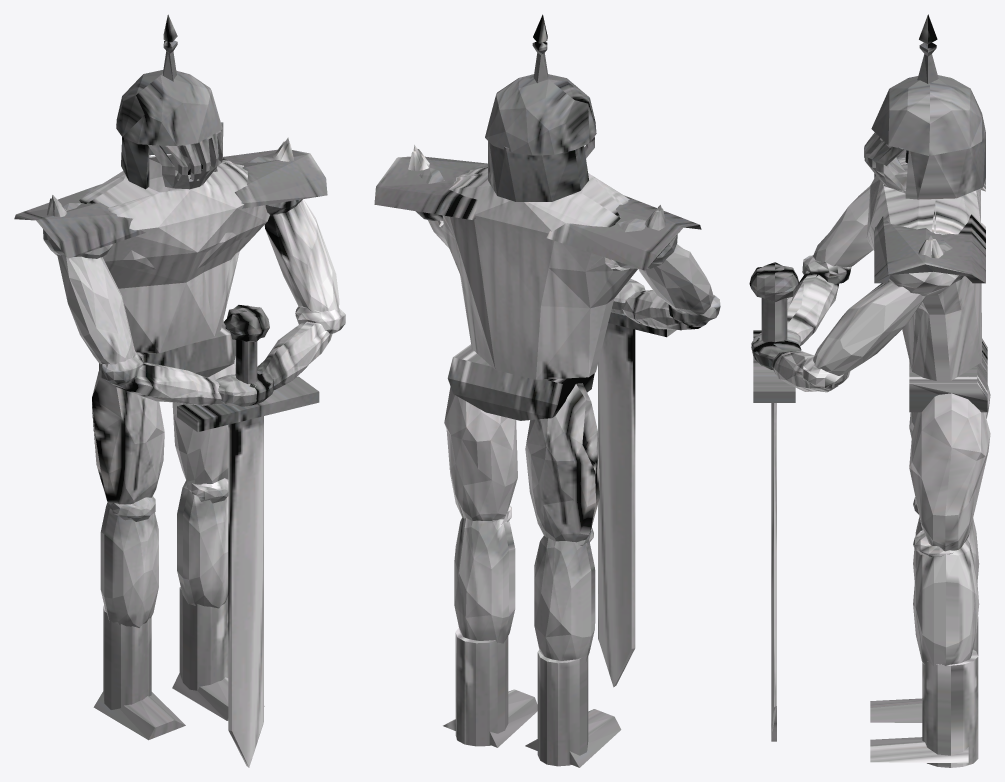
The model's file is Fullcoat.glb.
The picture shows the model from 3 angles, left to right: view 1: azimuth 30°, elevation 25°; view 2: azimuth 150°, elevation 25°; view 3: azimuth 270°, elevation 25°; orthographic projection. The views are drawn at different scales.
Parts seen in each view (by area): view 1: Fullcoat; view 2: Fullcoat; view 3: Fullcoat.
Part boxes in pixels (box(x1,y1,x2,y2)): Fullcoat: box(14, 14, 345, 767); Fullcoat: box(374, 14, 720, 767); Fullcoat: box(749, 14, 990, 767).
Size of the model in its own units: 80.13 by 195 by 58.86.
1 material, 1 textured.
